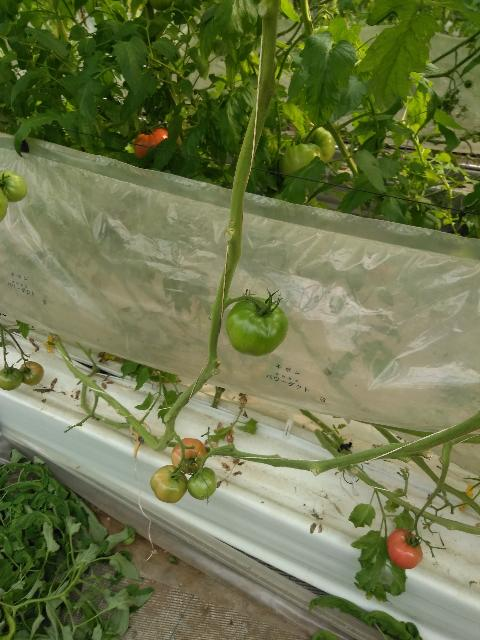b_fully_ripened: (387, 529, 423, 569)
b_green: (225, 295, 288, 357), (279, 143, 324, 179), (150, 465, 188, 504), (298, 127, 335, 164), (187, 467, 218, 500), (0, 171, 27, 202), (0, 367, 22, 391), (0, 188, 9, 223)
b_half_ripened: (171, 438, 208, 473), (134, 128, 168, 158), (19, 361, 44, 386)
